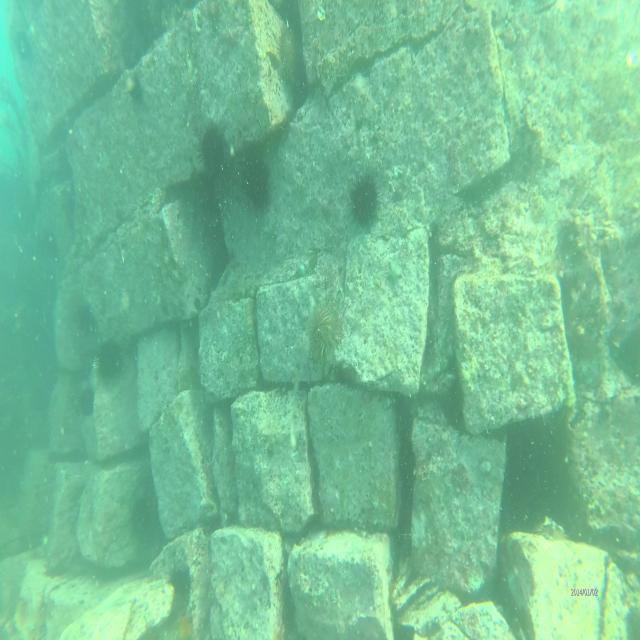echinus: (309, 295, 342, 371), (349, 169, 387, 235), (195, 115, 228, 183), (238, 152, 272, 212), (96, 335, 126, 387), (75, 296, 99, 334), (40, 229, 60, 258), (78, 389, 97, 419), (12, 27, 29, 59)
